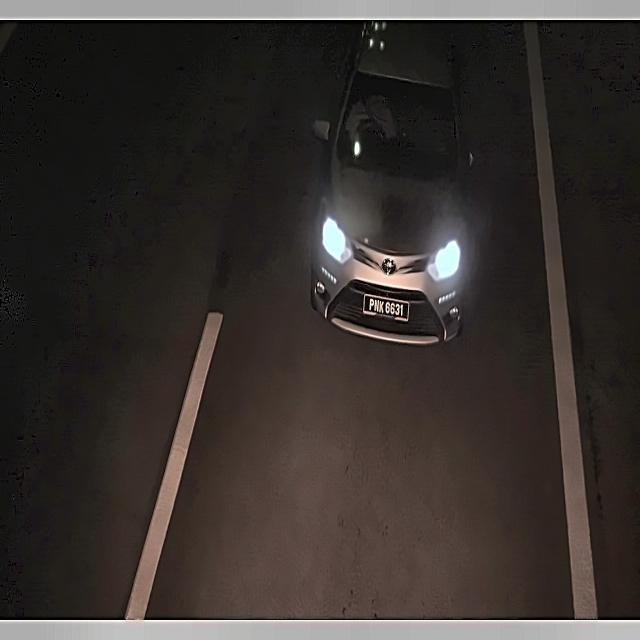car: (360, 286, 410, 326)
